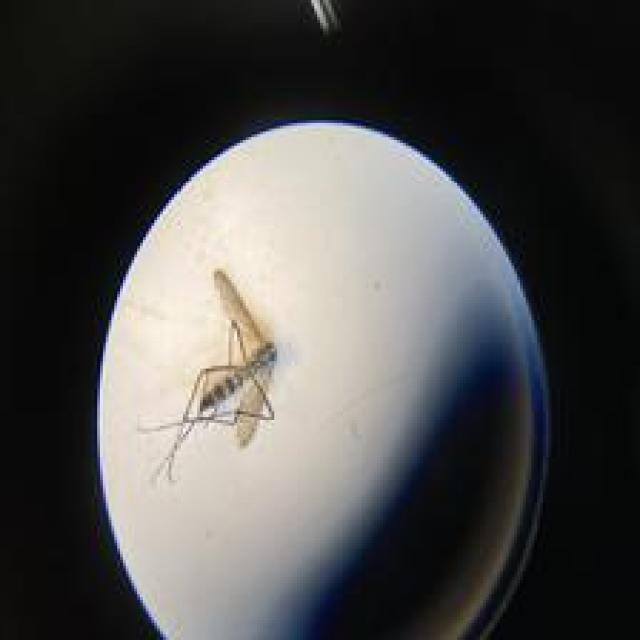Aedes albopictus: (137, 267, 280, 484)
